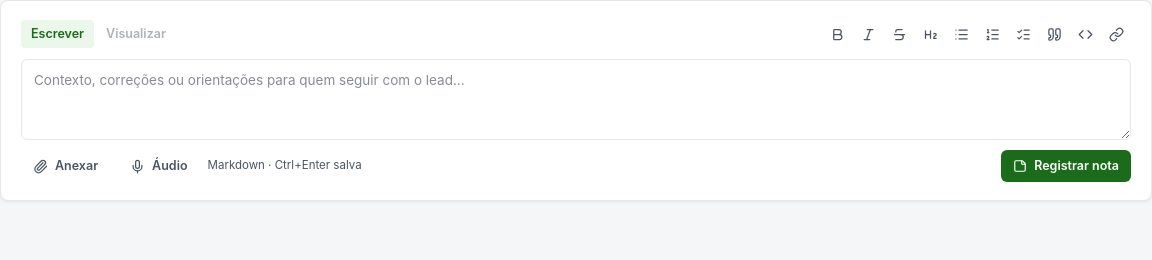
NoteComposer — escrita › mostra erro e preserva o texto quando o salvamento falha
This screenshot has width=1152, height=260.
Type "não perder isso" into the text box named "Corpo da nota". click: (576, 100)
box: [21,59,1131,140]
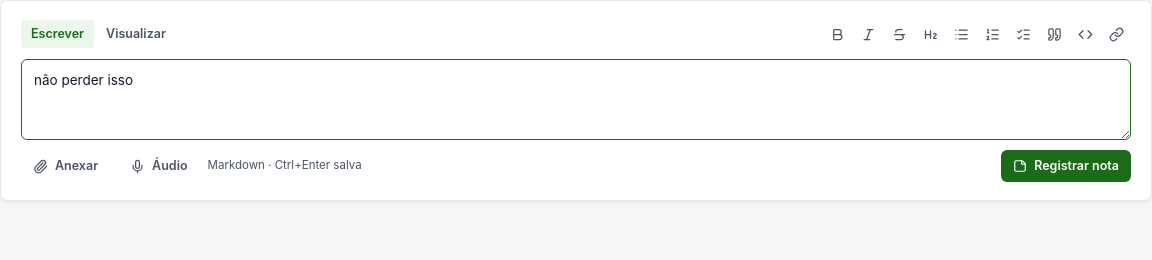
Click the button "Registrar nota". click: click(1066, 166)
box: [1001,150,1131,182]
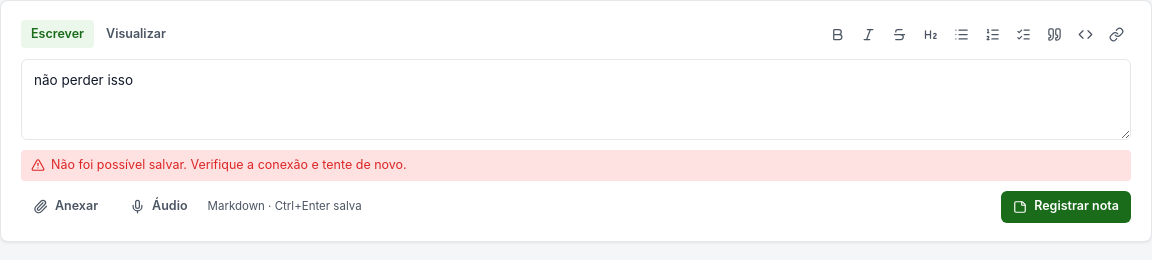
expect the message shows "Não foi possível salvar": met, box [51,157,407,172]
